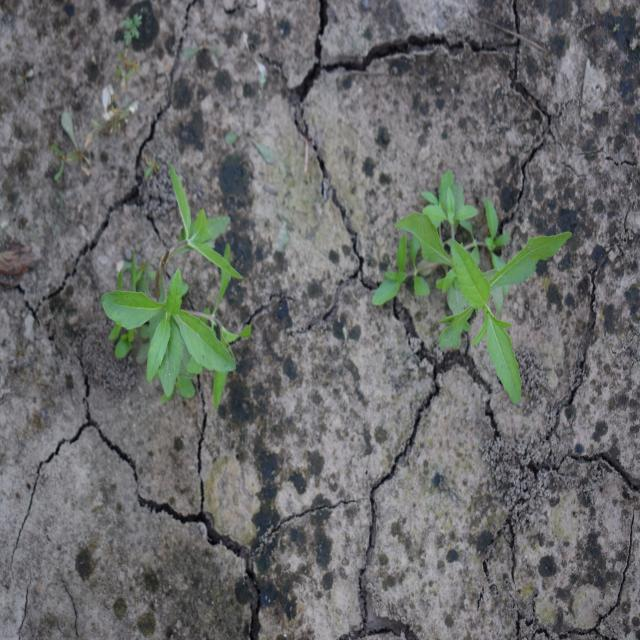Eclipta: (370, 168, 573, 406), (99, 158, 253, 411)
